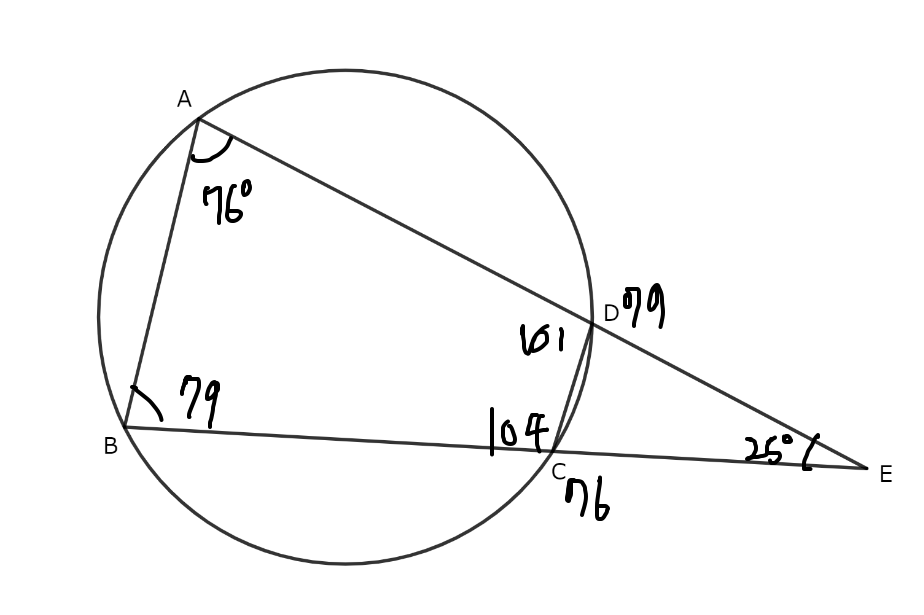Angle_Scurve: (121, 378, 172, 432), (182, 130, 233, 167), (800, 428, 823, 476)
